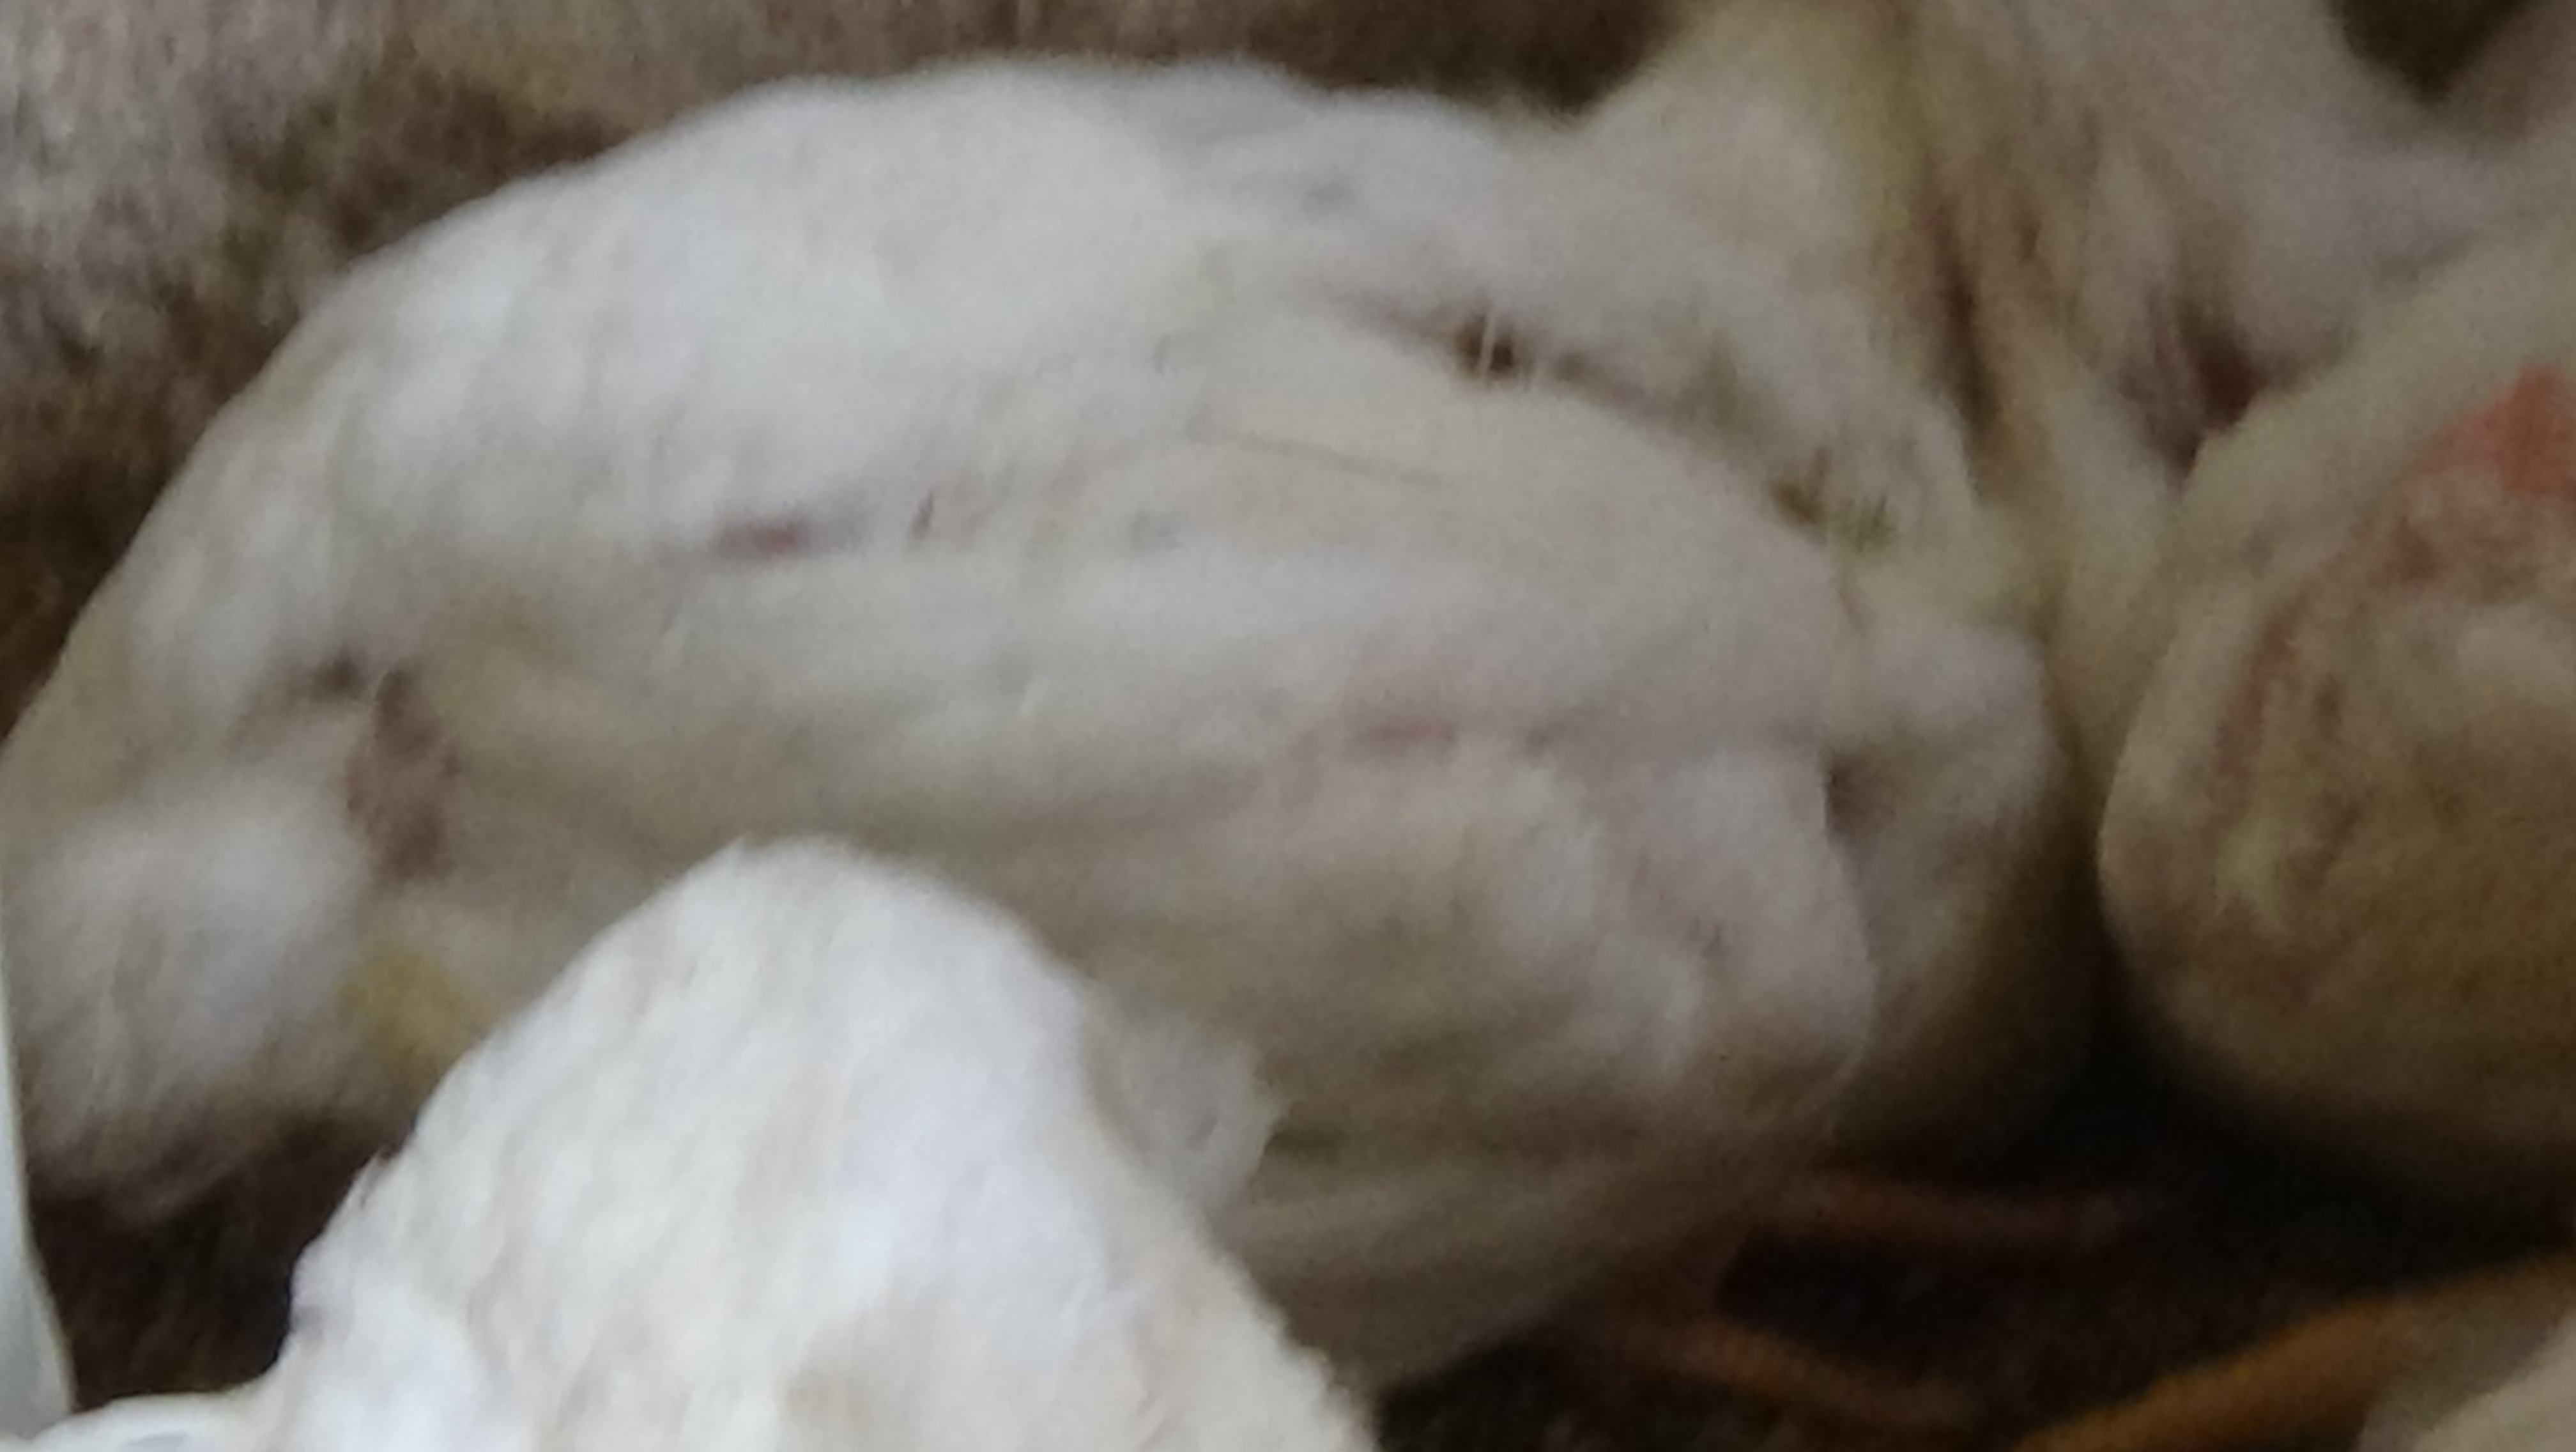Pollos: (0, 0, 1893, 1385)
